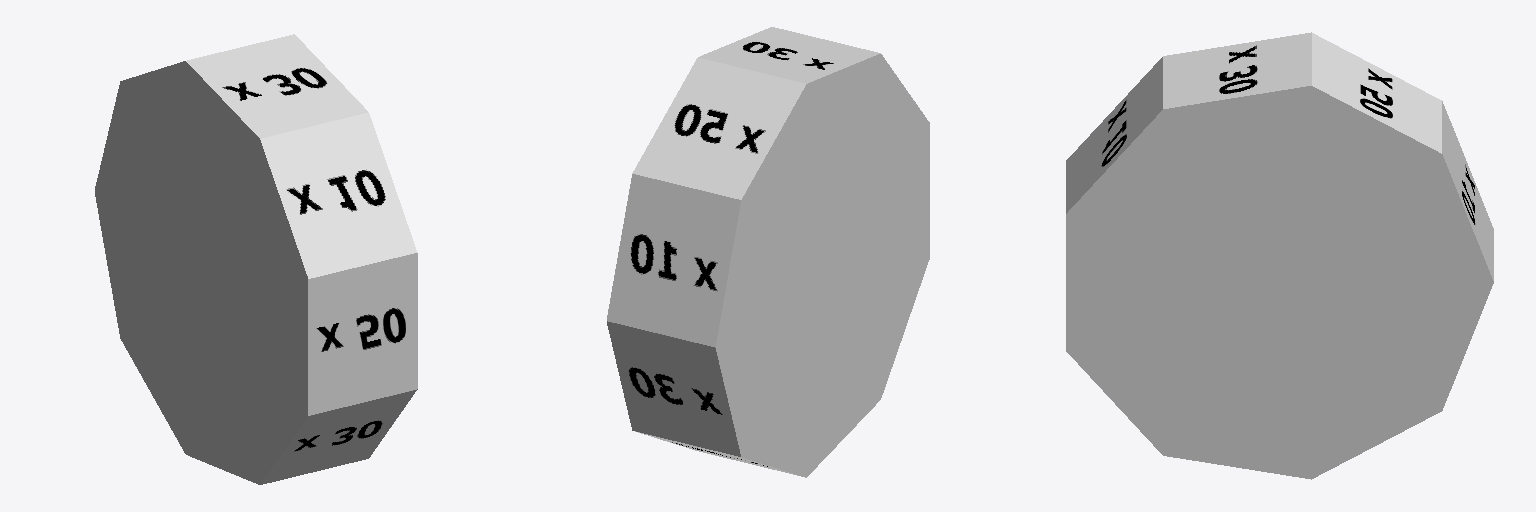
The picture shows the model from 3 angles: view 1: azimuth 30°, elevation 25°; view 2: azimuth 150°, elevation 25°; view 3: azimuth 270°, elevation 25°; orthographic projection.
Parts seen in each view (by area): view 1: pCylinder2; view 2: pCylinder2; view 3: pCylinder2.
Part boxes in pixels (left/top/right/bottom): pCylinder2: left=95, top=34, right=417, bottom=484; pCylinder2: left=607, top=27, right=929, bottom=477; pCylinder2: left=1066, top=32, right=1493, bottom=479.
Bounding box in the file's own units: 0.3843 × 1.33 × 1.31.
1 materials, 1 textured.